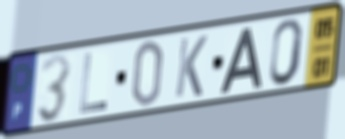0: (268, 18, 306, 89), (129, 39, 165, 110)
3: (35, 52, 76, 126)
A: (218, 25, 264, 96)
K: (173, 33, 210, 100)
L: (77, 51, 109, 116)
